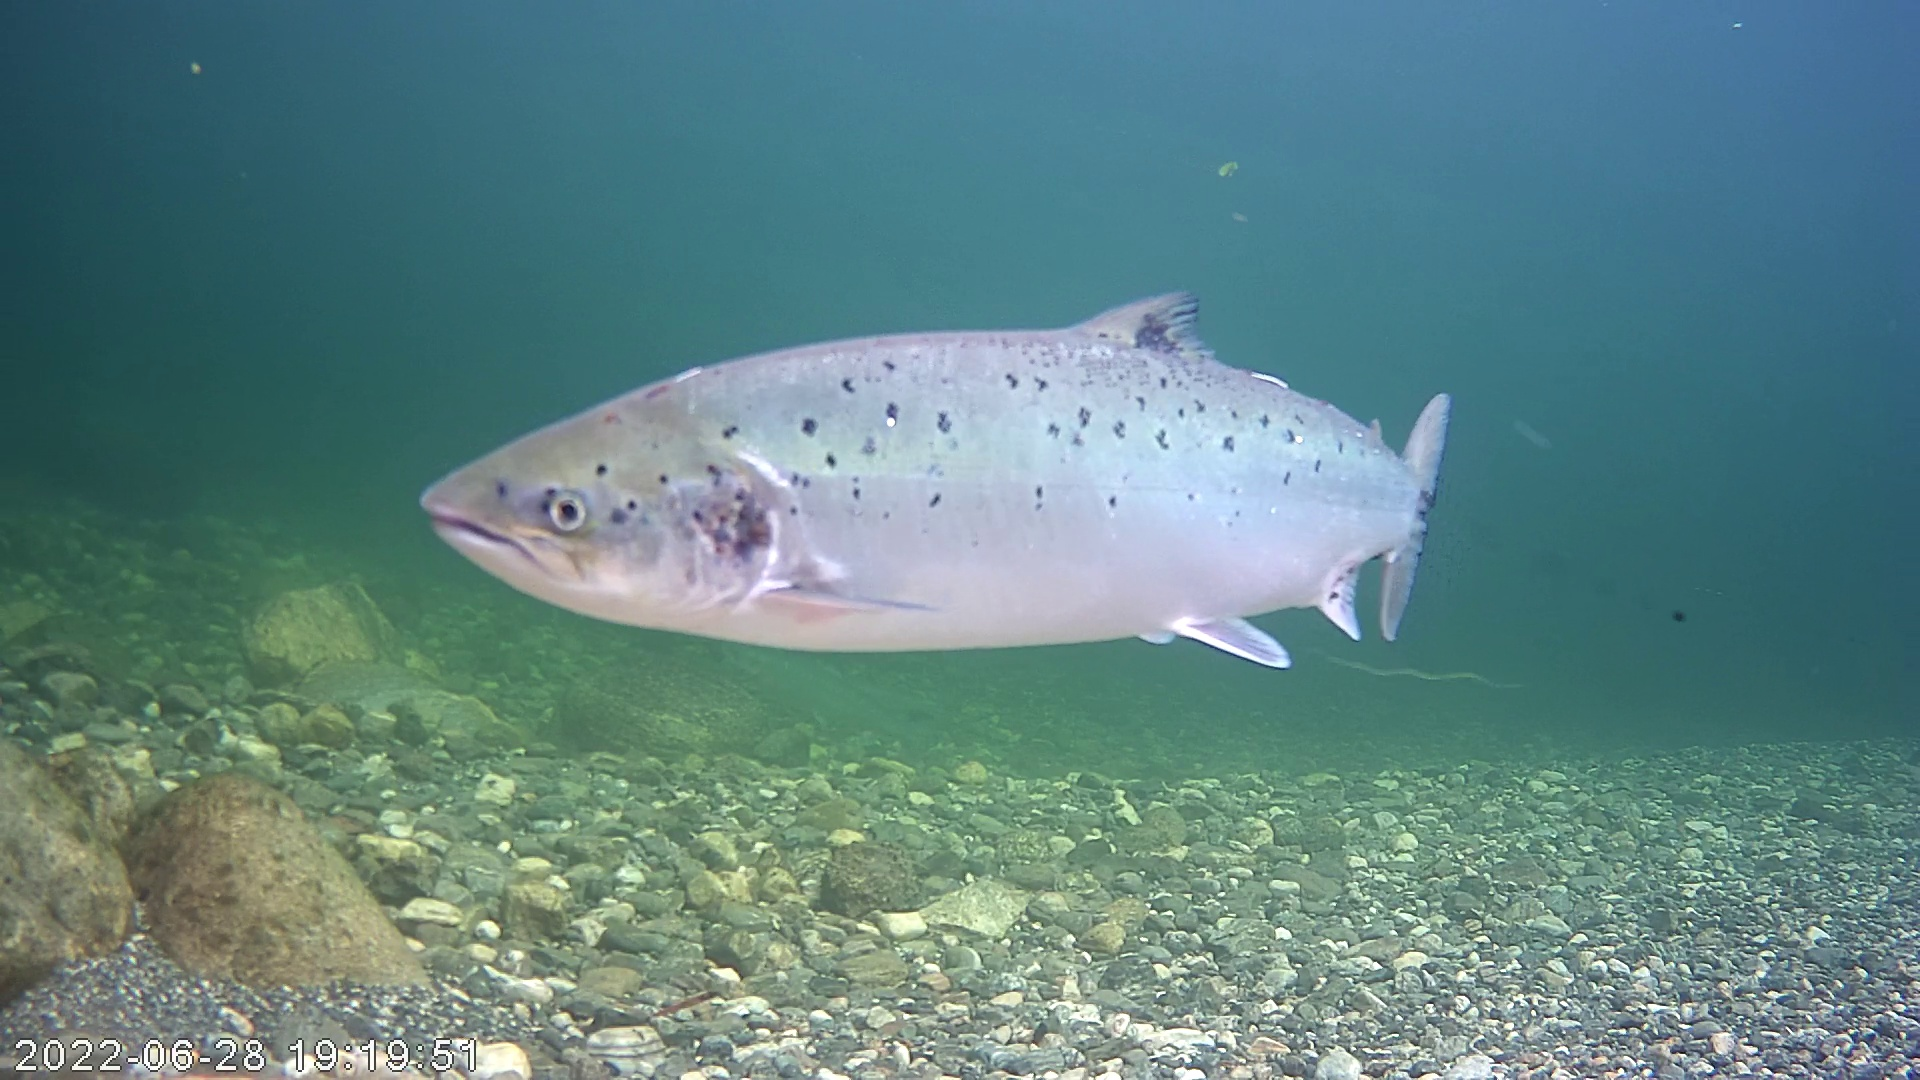salmon: (396, 175, 1470, 666)
